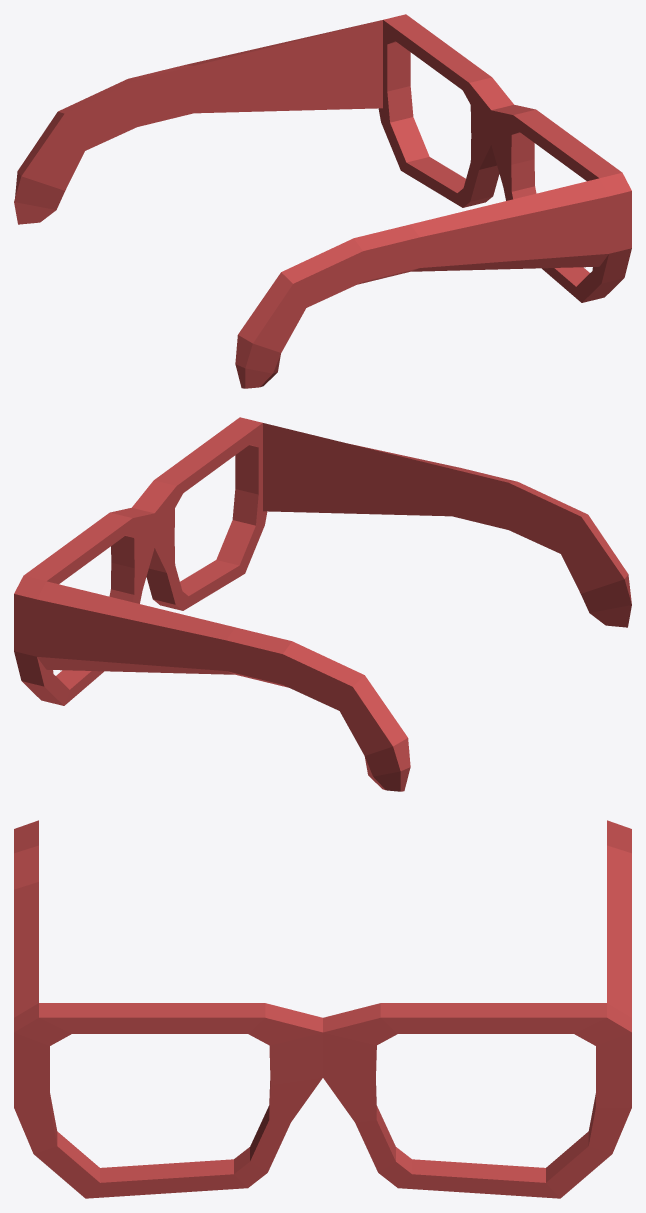
File: Glasses.fbx
3 renders of one model, top to bottom at view 1: azimuth 30°, elevation 25°; view 2: azimuth 150°, elevation 25°; view 3: azimuth 270°, elevation 25°, orthographic. The views are drawn at different scales.
Parts seen in each view (by area): view 1: pCube11; view 2: pCube11; view 3: pCube11.
Boxes of the visible parts, <box> form: pCube11: <box>14,14,631,388</box>; pCube11: <box>14,417,631,791</box>; pCube11: <box>14,820,631,1198</box>.
Bounding box in the file's own units: 3.36 × 1.14 × 3.52.
